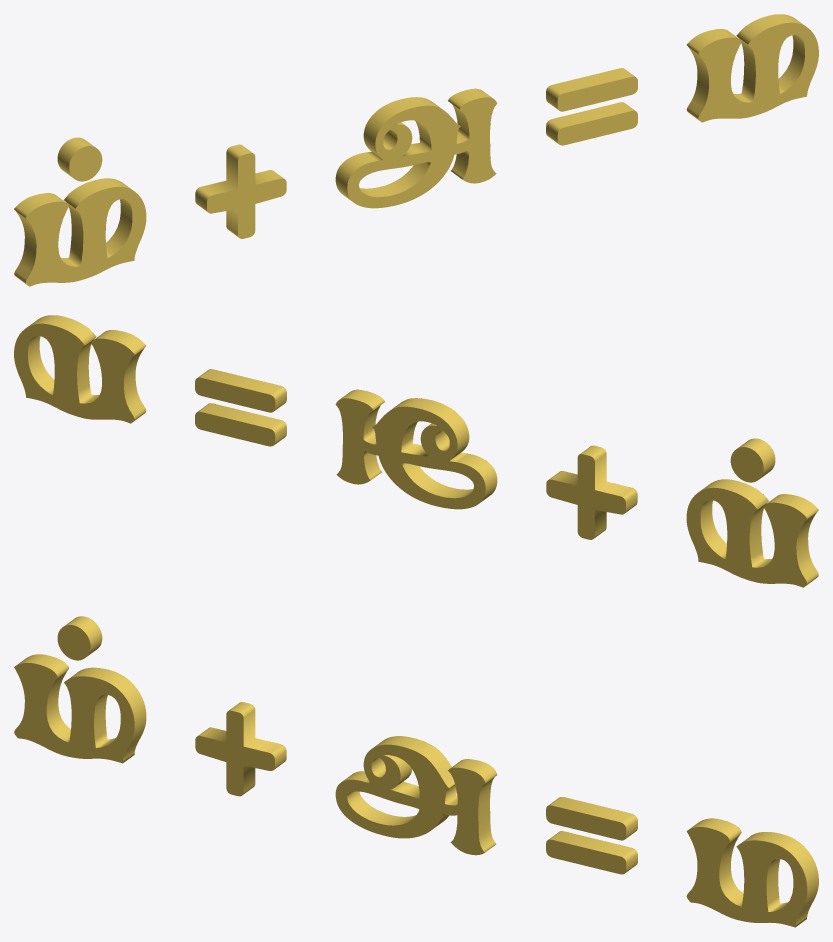
The picture shows the model from 3 angles, top to bottom: view 1: azimuth 30°, elevation 25°; view 2: azimuth 150°, elevation 25°; view 3: azimuth 330°, elevation 25°; orthographic projection.
Parts seen in each view (by area): view 1: ma; view 2: ma; view 3: ma.
Part boxes in pixels (x1,y1,x2,y2): ma: [14, 14, 818, 286]; ma: [14, 315, 818, 587]; ma: [14, 616, 818, 927].
Bounding box in the file's own units: 0.1691 × 0.0274 × 0.00431.
